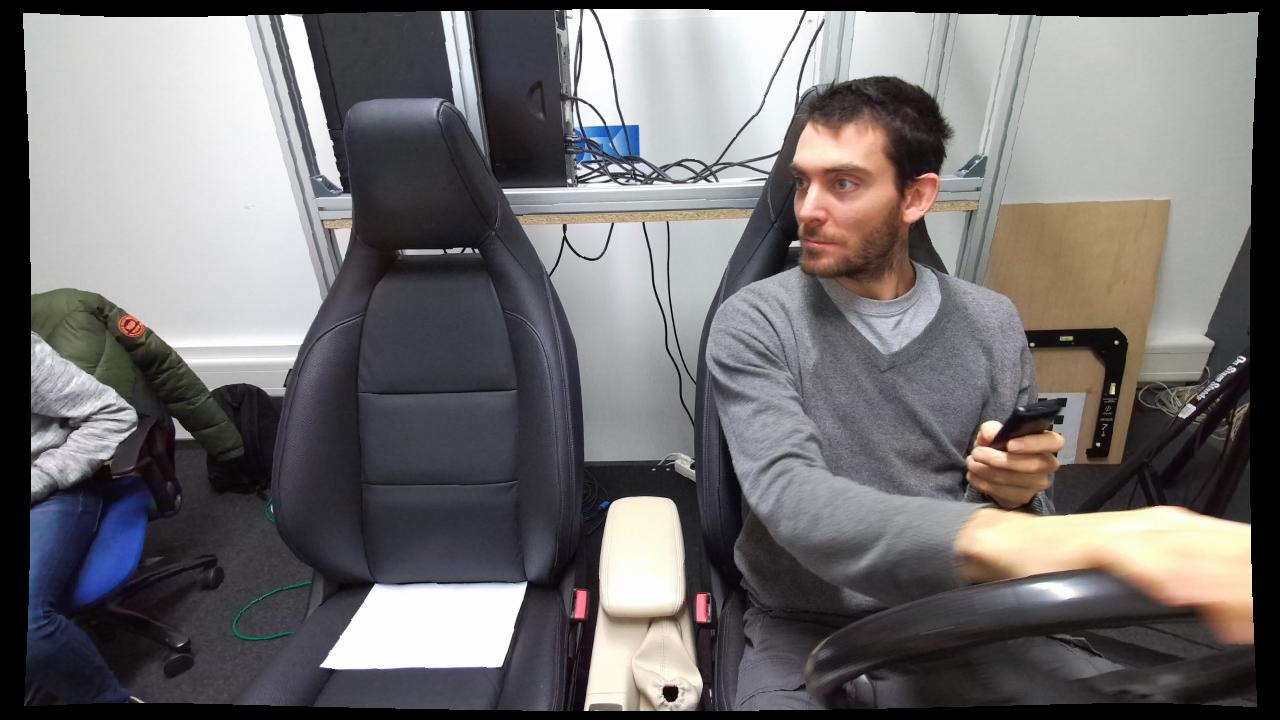Distracted: (707, 73, 1068, 720)
PhoneUse: (949, 386, 1075, 517)
